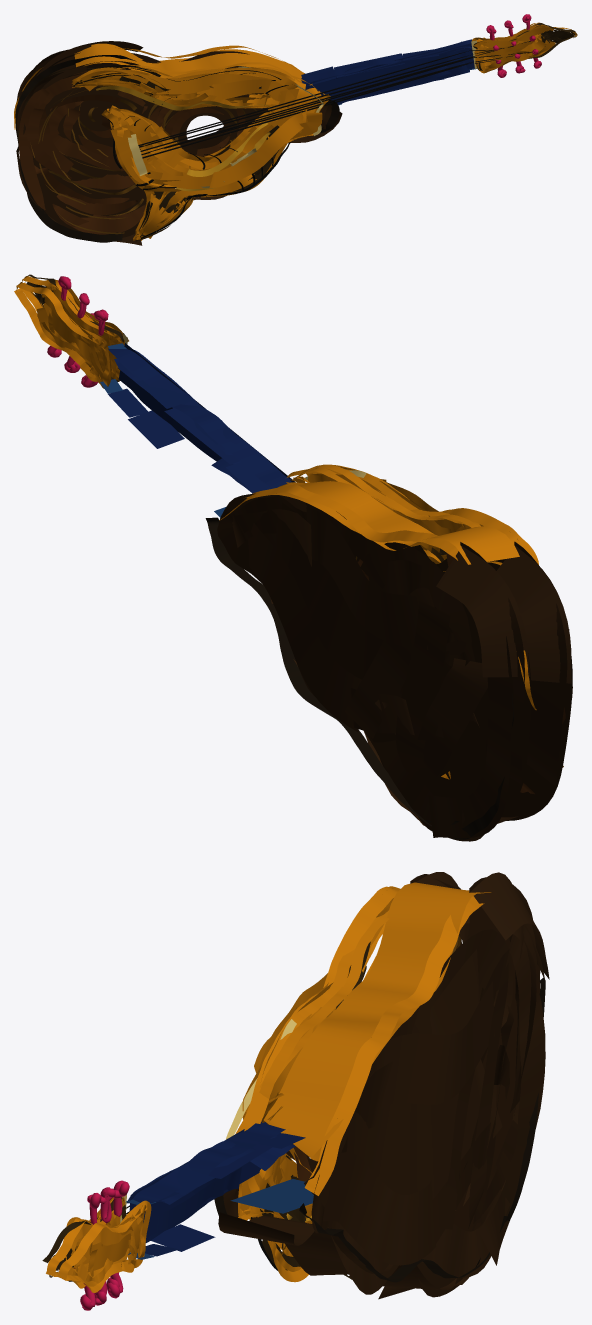
File: mikeyguitar.fbx
3 renders of one model, top to bottom at view 1: azimuth 30°, elevation 25°; view 2: azimuth 150°, elevation 25°; view 3: azimuth 270°, elevation 25°, orthographic. The views are drawn at different scales.
Visible parts, largest first — view 1: group_11; view 2: group_11; view 3: group_11.
Boxes of the visible parts, x1=… form: group_11: x1=14, y1=14, x2=577, y2=245; group_11: x1=14, y1=274, x2=572, y2=841; group_11: x1=42, y1=872, x2=549, y2=1310.
Bounding box in the file's own units: 161 × 69.74 × 77.6.
